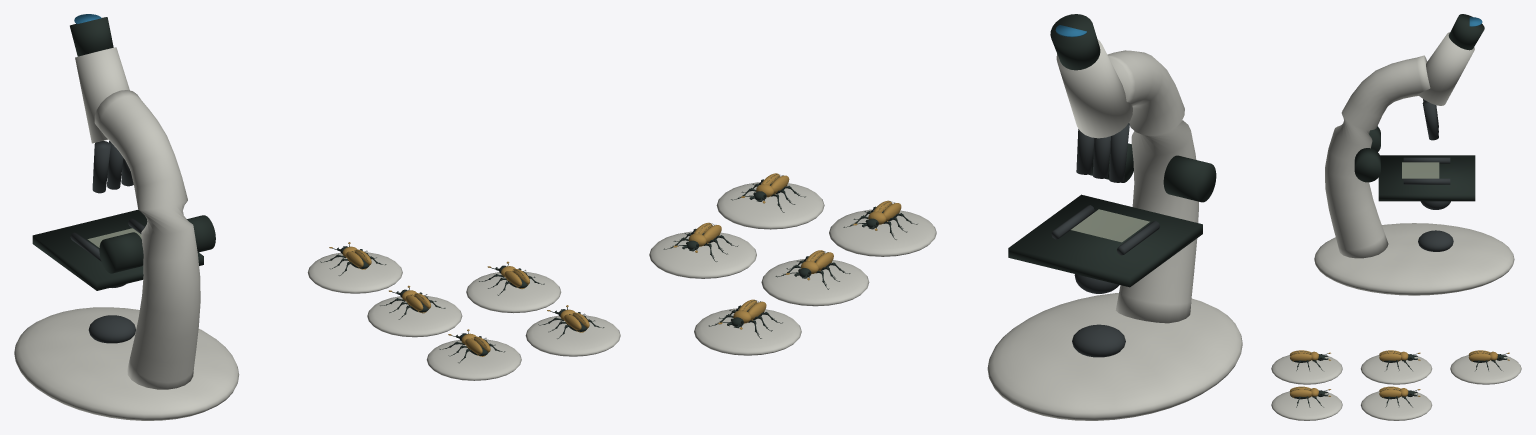
3 renders of one model, left to right at view 1: azimuth 30°, elevation 25°; view 2: azimuth 150°, elevation 25°; view 3: azimuth 270°, elevation 25°, orthographic. The views are drawn at different scales.
Visible parts, largest first — view 1: L02_SPEC_Instrument enamel.002_export, L02_SPEC_Chitin.002_export, L02_SPEC_Mount steel.002_export, L02_SPEC_Iridescent bronze.002_export; view 2: L02_SPEC_Instrument enamel.002_export, L02_SPEC_Chitin.002_export, L02_SPEC_Mount steel.002_export, L02_SPEC_Iridescent bronze.002_export, L02_SPEC_Wing membrane.002_export; view 3: L02_SPEC_Instrument enamel.002_export, L02_SPEC_Chitin.002_export, L02_SPEC_Mount steel.002_export, L02_SPEC_Iridescent bronze.002_export, L02_SPEC_Wing membrane.002_export.
Boxes of the visible parts, x1,y1,x2,y2 form: L02_SPEC_Instrument enamel.002_export: [14, 47, 620, 420]; L02_SPEC_Chitin.002_export: [32, 17, 604, 363]; L02_SPEC_Mount steel.002_export: [70, 140, 144, 343]; L02_SPEC_Iridescent bronze.002_export: [329, 242, 589, 356]; L02_SPEC_Instrument enamel.002_export: [649, 39, 1242, 420]; L02_SPEC_Chitin.002_export: [663, 14, 1216, 338]; L02_SPEC_Mount steel.002_export: [1051, 123, 1159, 357]; L02_SPEC_Iridescent bronze.002_export: [673, 173, 901, 329]; L02_SPEC_Wing membrane.002_export: [1071, 209, 1149, 242]; L02_SPEC_Instrument enamel.002_export: [1271, 32, 1521, 420]; L02_SPEC_Chitin.002_export: [1290, 14, 1507, 407]; L02_SPEC_Mount steel.002_export: [1403, 99, 1453, 251]; L02_SPEC_Iridescent bronze.002_export: [1290, 350, 1509, 397]; L02_SPEC_Wing membrane.002_export: [1402, 162, 1439, 178].
Size of the model in its own units: 1.23 by 0.7933 by 0.7.
